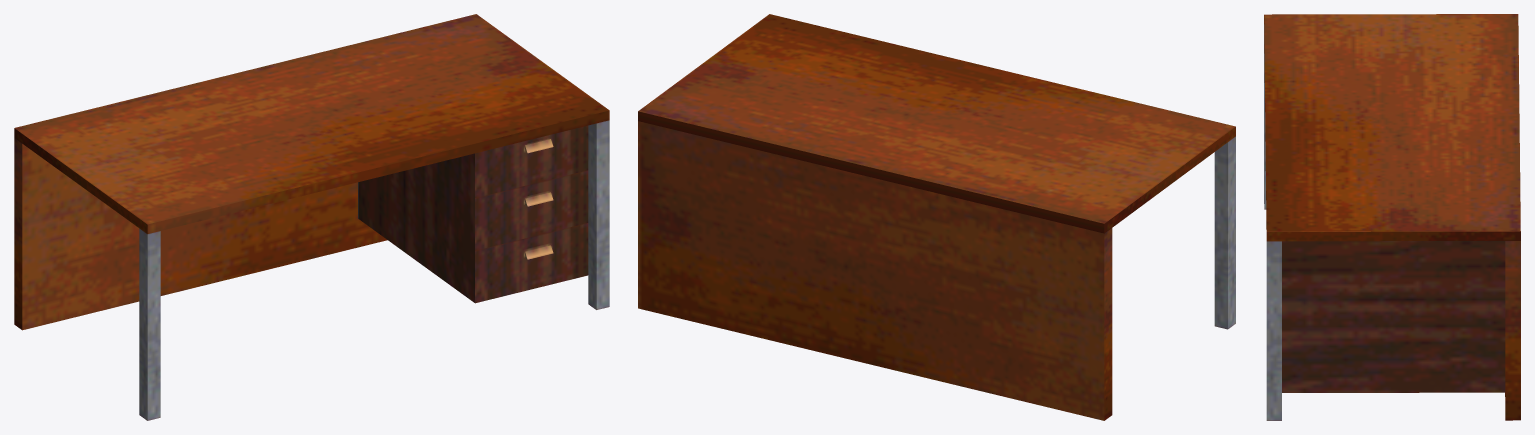
The model's file is desk1_alt3.obj.
The picture shows the model from 3 angles, left to right: view 1: azimuth 30°, elevation 25°; view 2: azimuth 150°, elevation 25°; view 3: azimuth 270°, elevation 25°; orthographic projection. The views are drawn at different scales.
Parts seen in each view (by area): view 1: desk1_alt3; view 2: desk1_alt3; view 3: desk1_alt3.
Boxes of the visible parts, x1=… form: desk1_alt3: x1=14, y1=14, x2=609, y2=420; desk1_alt3: x1=638, y1=14, x2=1235, y2=420; desk1_alt3: x1=1264, y1=14, x2=1520, y2=420.
Size of the model in its own units: 2.21 by 0.8911 by 1.1.
